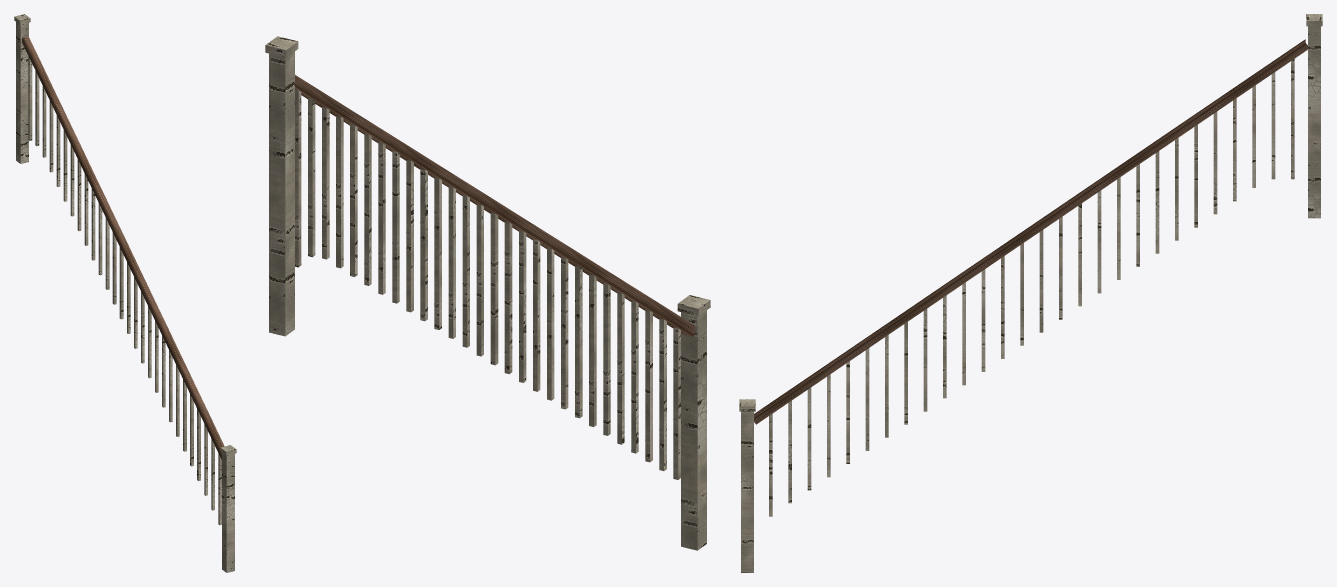
The model's file is house_stairs_rail.glb.
3 renders of one model, left to right at view 1: azimuth 30°, elevation 25°; view 2: azimuth 150°, elevation 25°; view 3: azimuth 270°, elevation 25°, orthographic. The views are drawn at different scales.
Visible parts, largest first — view 1: house_stairs_rail; view 2: house_stairs_rail; view 3: house_stairs_rail.
Part boxes in pixels (x1,y1,x2,y2): house_stairs_rail: (14,14,236,572); house_stairs_rail: (265,36,710,550); house_stairs_rail: (739,14,1322,572).
Bounding box in the file's own units: 0.114 × 4.21 × 4.02.
2 materials, 2 textured.
